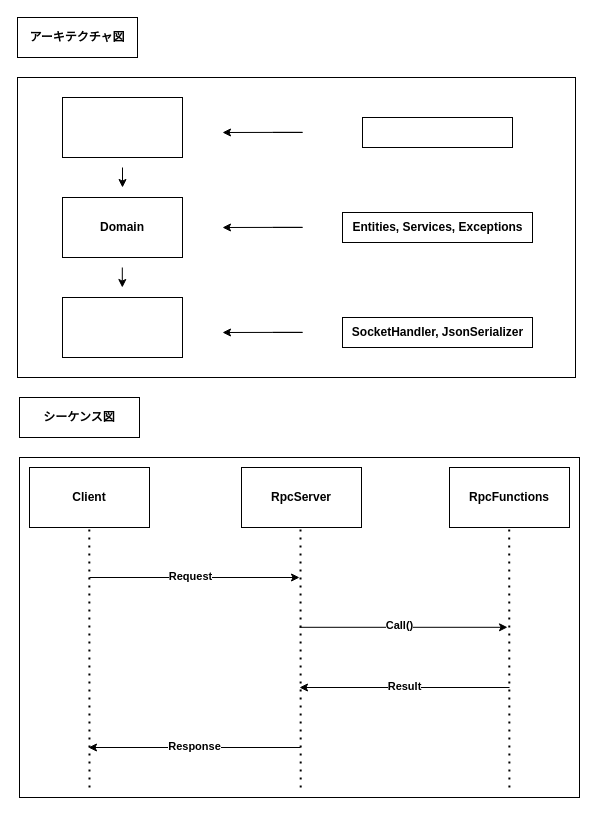
Some shapes in this 597 by 815 pixel diagram are drawn without their labels. Here are the shapes that lost their labels. From the top down, the centre of each, then its label:
At point 122,127: "Application".
At point 437,132: "RpcClient / RpcServer".
At point 122,327: "Infrastructure".
